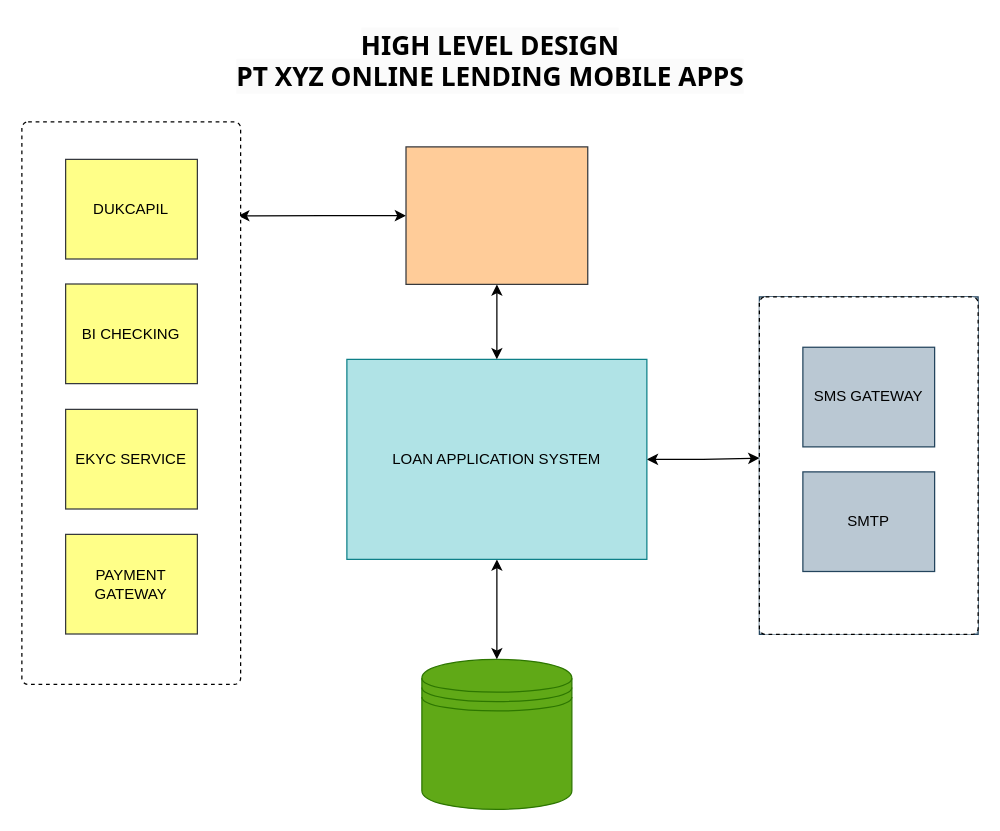
This 1000x831 diagram has some shape labels left out. The box of each missing label's shape, as (x1, y1, x2, y2) in pixels:
3rd Party System: (21, 121, 241, 684)
MIDDLEWARE: (405, 146, 588, 284)
Notification System: (758, 296, 978, 634)
RDBMS: (421, 658, 572, 809)
